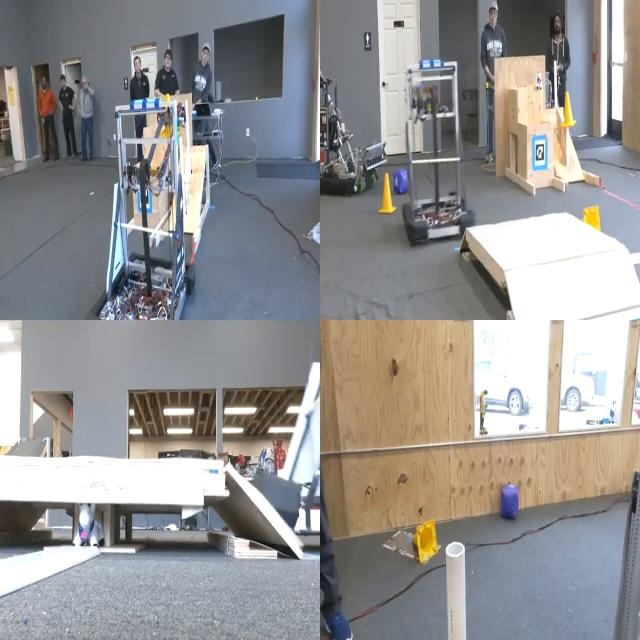frc_cone: (409, 526, 438, 564), (376, 174, 394, 219), (560, 94, 578, 134), (584, 208, 604, 235)
frc_cube: (500, 484, 520, 524), (396, 161, 409, 199)
